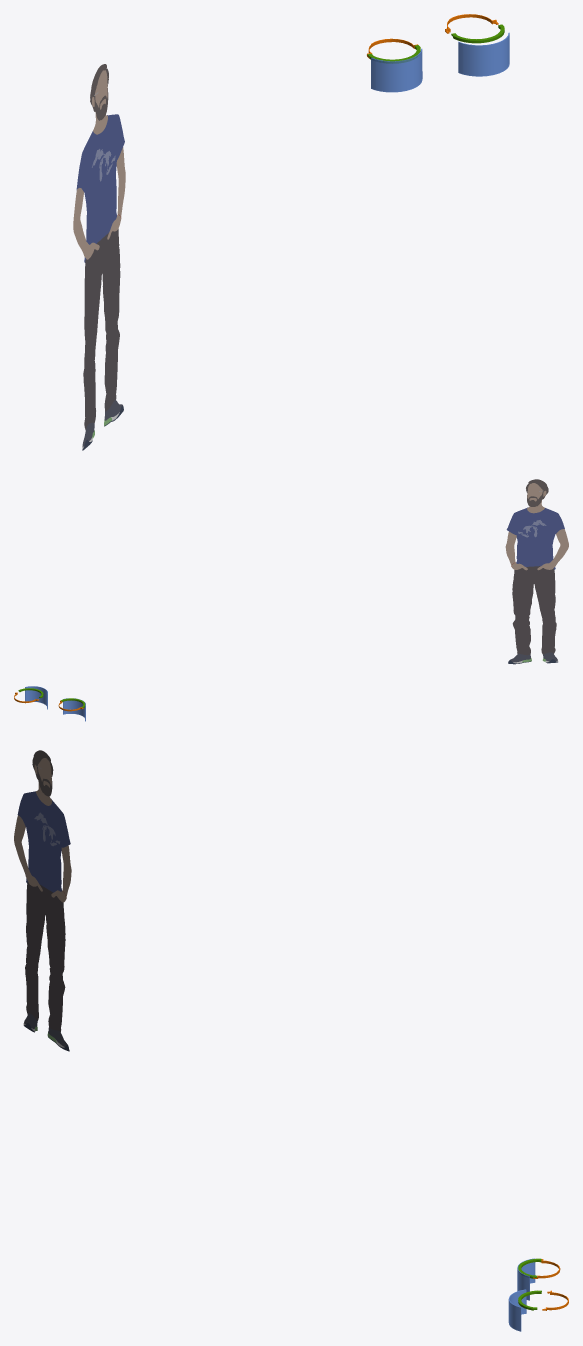
Rendered from ppe.dae.
3 views of the same model, one above another, from view 1: azimuth 30°, elevation 25°; view 2: azimuth 150°, elevation 25°; view 3: azimuth 270°, elevation 25° (orthographic). The views are drawn at different scales.
Visible parts, largest first — view 1: Marc (×3), group_10, group_2; view 2: Marc (×3), group_10; view 3: Marc (×2).
Part boxes in pixels (x1=…): Marc (×3): x1=73, y1=114, x2=124, y2=430; group_10: x1=458, y1=32, x2=509, y2=76; group_2: x1=371, y1=48, x2=422, y2=92; Marc (×3): x1=506, y1=507, x2=568, y2=655; group_10: x1=25, y1=686, x2=47, y2=709; Marc (×2): x1=17, y1=791, x2=70, y2=1031.
Bounding box in the file's own units: 156 × 126 × 77.11.
